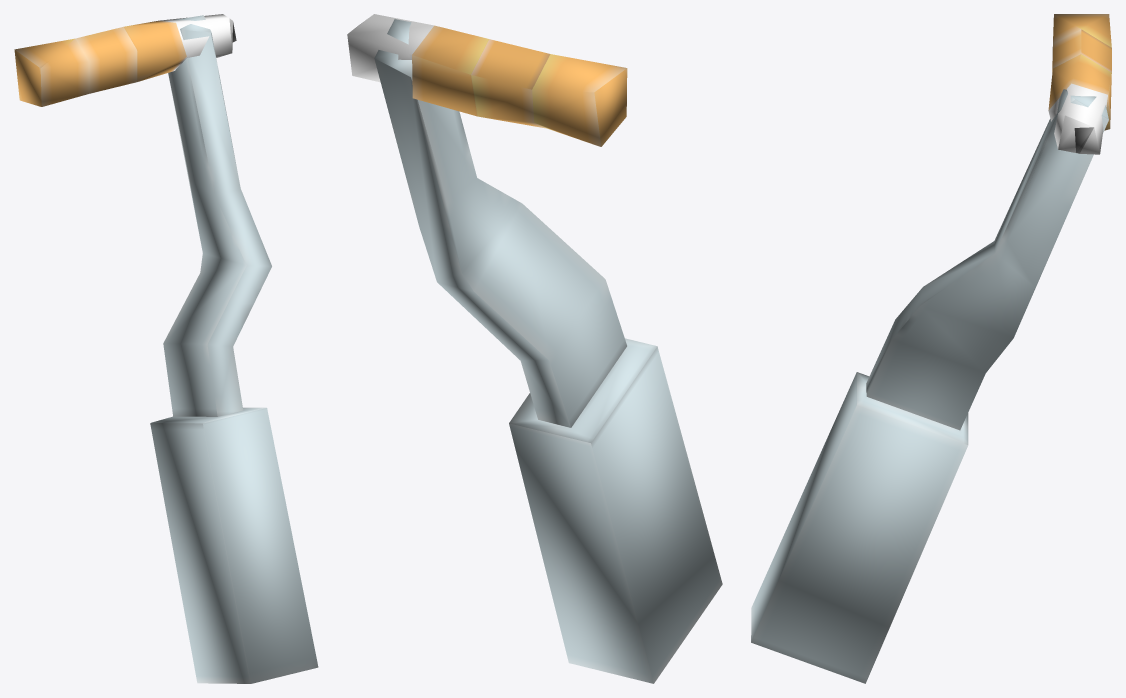
Rendered from main_lever_left.obj.
The picture shows the model from 3 angles, left to right: view 1: azimuth 30°, elevation 25°; view 2: azimuth 150°, elevation 25°; view 3: azimuth 270°, elevation 25°; orthographic projection. The views are drawn at different scales.
Visible parts, largest first — view 1: 8.Console_Main_Lever_Left; view 2: 8.Console_Main_Lever_Left; view 3: 8.Console_Main_Lever_Left.
Part boxes in pixels (bbox=[...]): 8.Console_Main_Lever_Left: bbox=[14, 14, 318, 683]; 8.Console_Main_Lever_Left: bbox=[347, 14, 722, 683]; 8.Console_Main_Lever_Left: bbox=[751, 14, 1111, 683].
Bounding box in the file's own units: 0.0822 × 0.2188 × 0.1173.
1 material, 1 textured.
